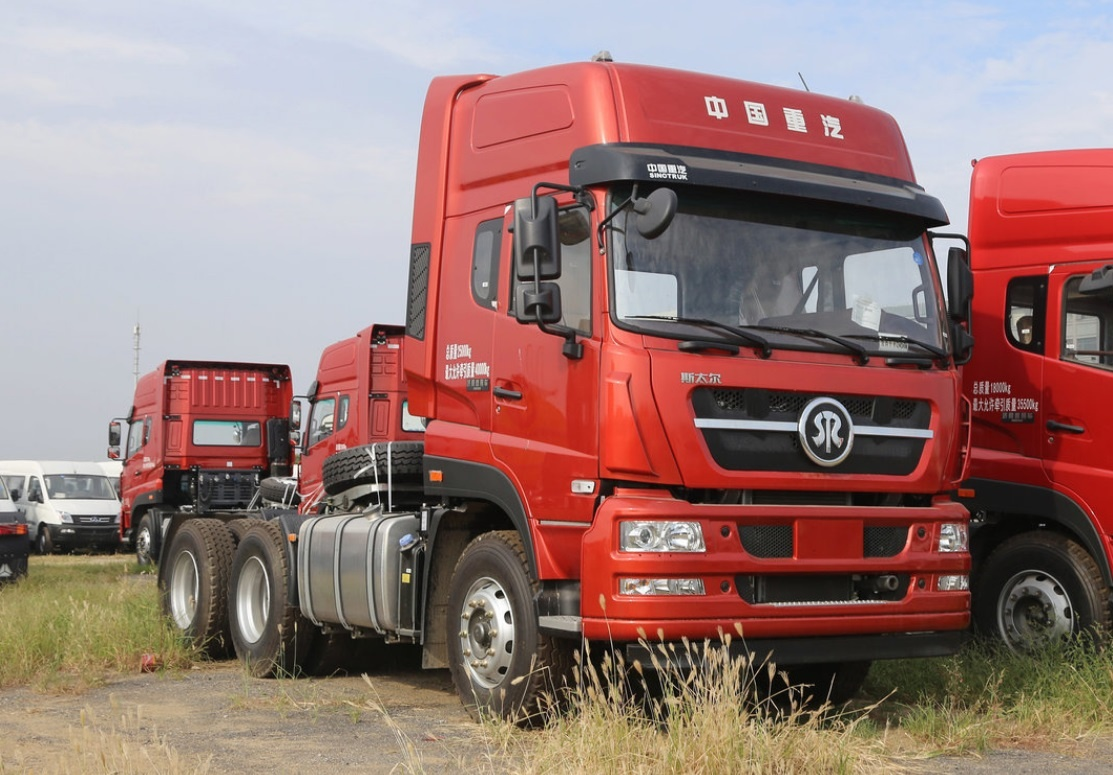heavy truck: (162, 54, 993, 715)
